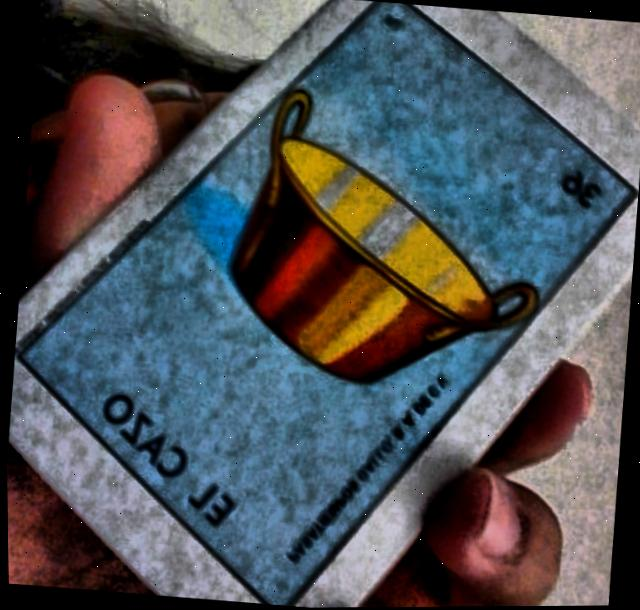El Cazo: (19, 1, 638, 606)
